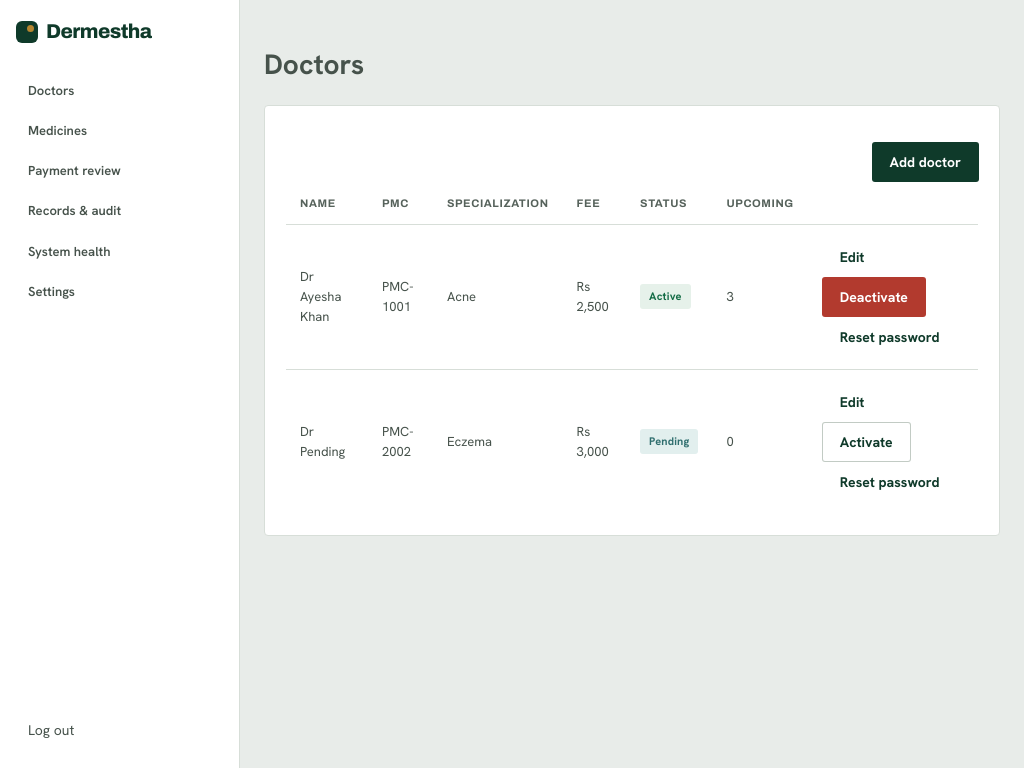
AdminDoctors (A-01) › switching edit targets shows the new doctor's data
Expected: the text "Dr Ayesha Khan" is shown, [286, 224, 368, 369]
Click the button "Edit" in the row of "Dr Ayesha Khan".
click(852, 257)  # box [822, 237, 882, 277]
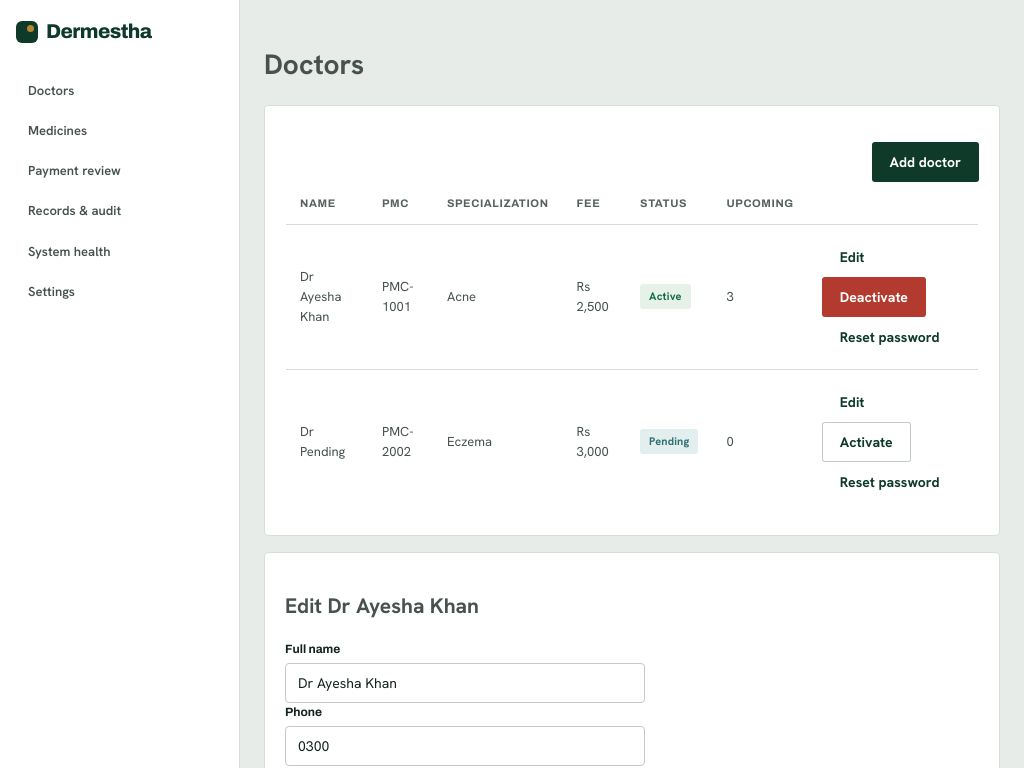
Expected: the field labelled "Full name" holds "Dr Ayesha Khan", [285, 663, 645, 703]
Click the 2nd button "Edit".
click(852, 402)  # box [822, 382, 882, 422]
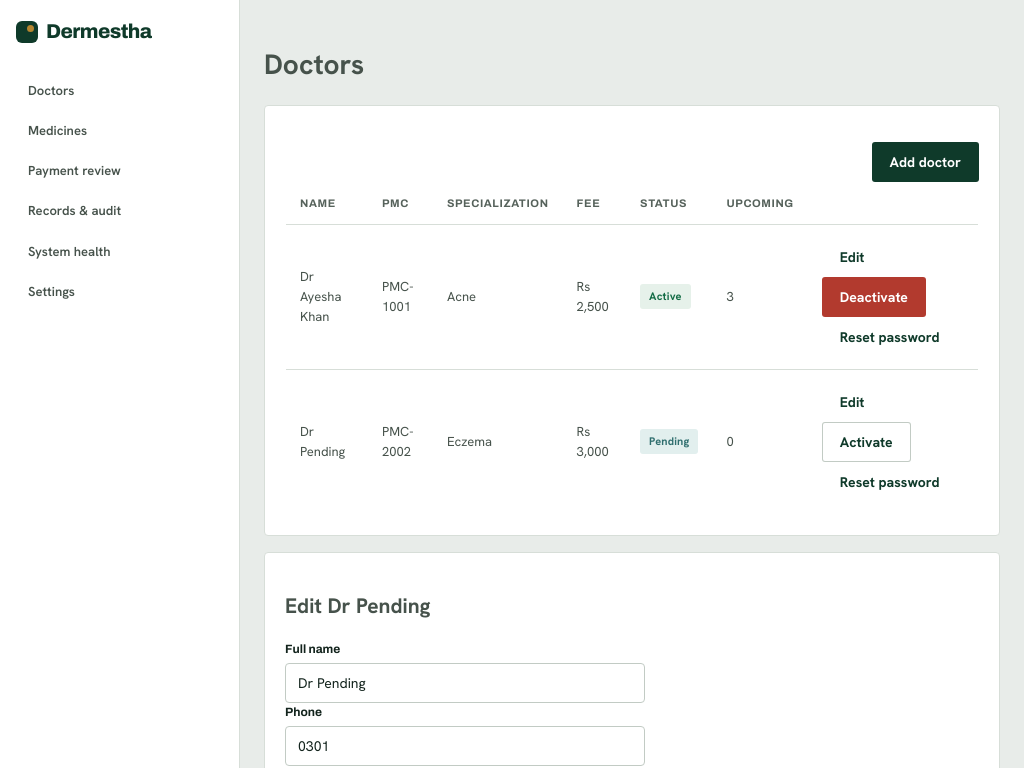
Expected: the field labelled "Full name" holds "Dr Pending", [285, 663, 645, 703]
